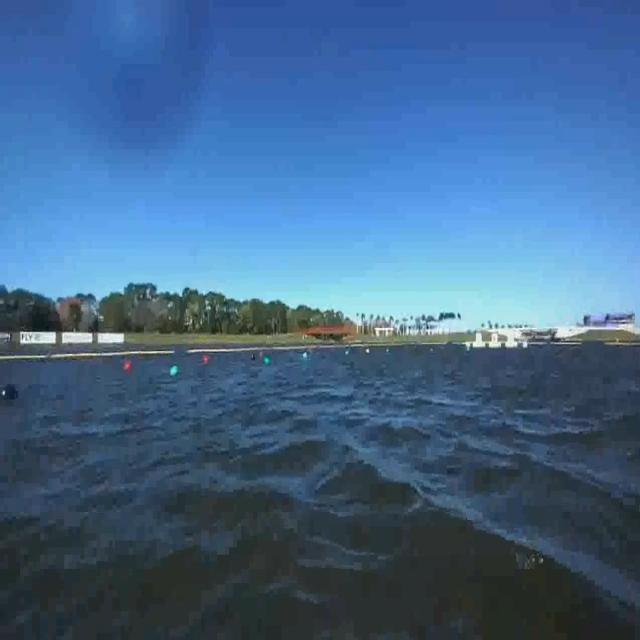black-buoy: (0, 384, 18, 406)
green-buoy: (171, 364, 180, 375)
red-buoy: (122, 358, 137, 376)
